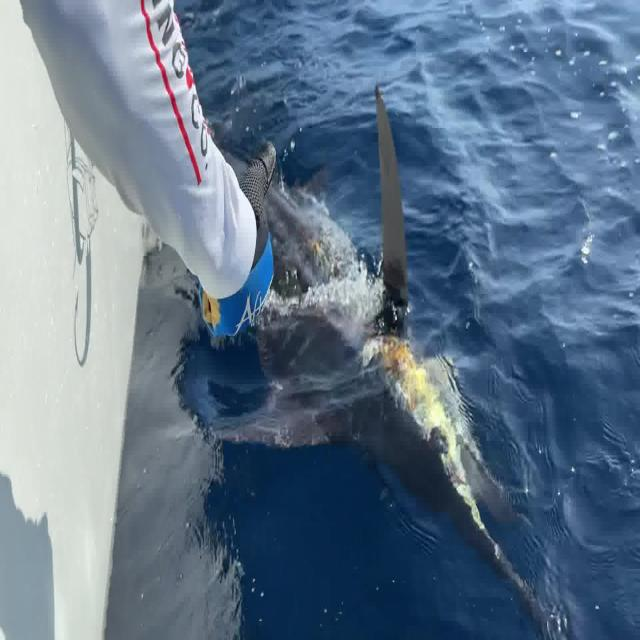Liberacion segura: (210, 82, 564, 640)
